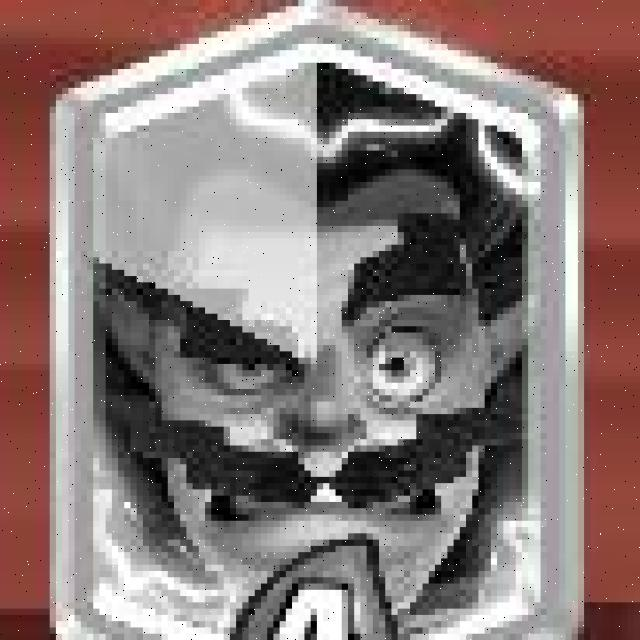Electro_Wizard: (42, 6, 577, 640)
